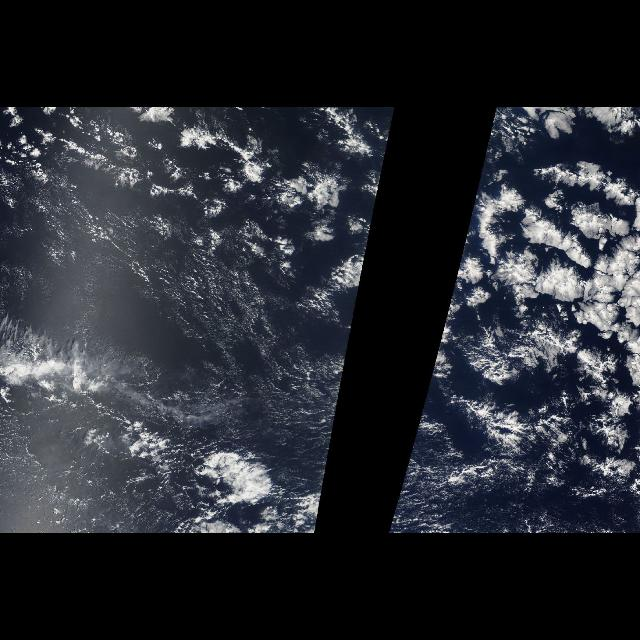Flower: (420, 140, 640, 488), (118, 125, 388, 303)
Sugar: (2, 201, 358, 447)
